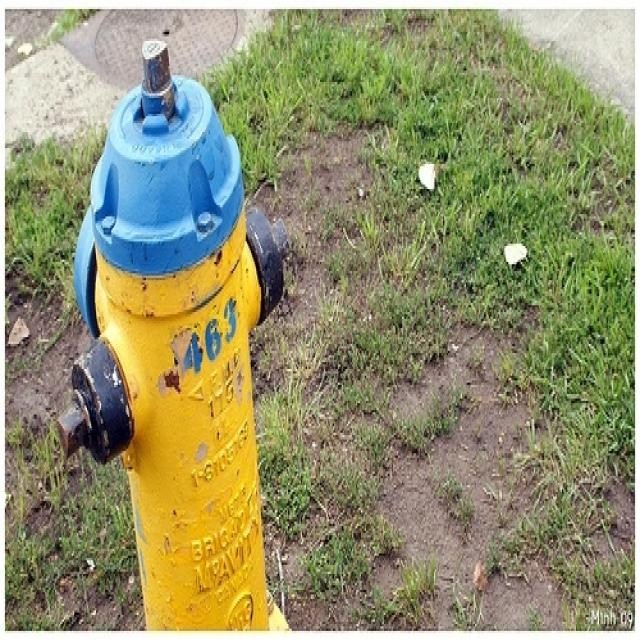fire_hydrant: (38, 42, 372, 634)
